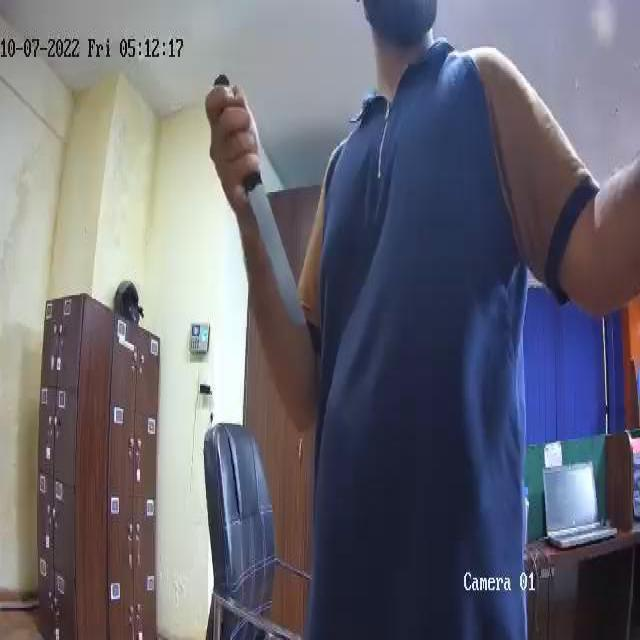faca: (209, 71, 309, 329)
